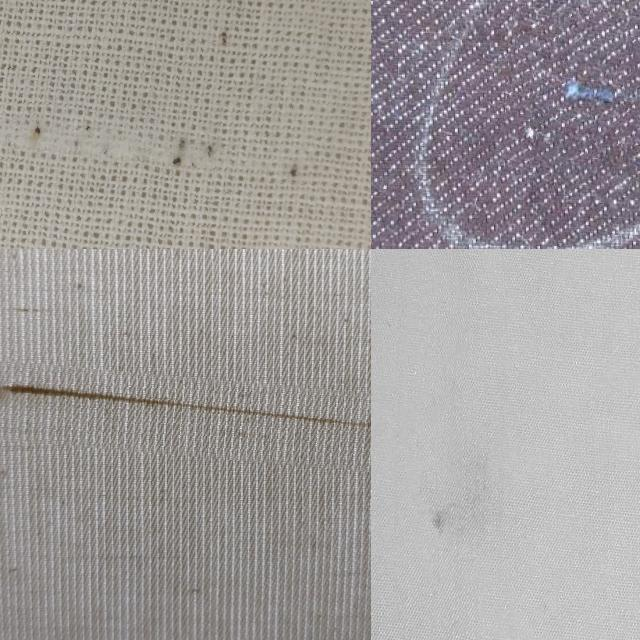Hole: (371, 391, 539, 591)
Thread_other: (0, 368, 371, 470), (503, 11, 640, 173)
